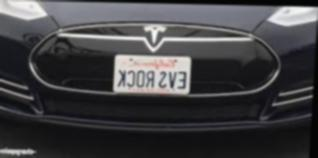License_Plate: (112, 56, 193, 93)
